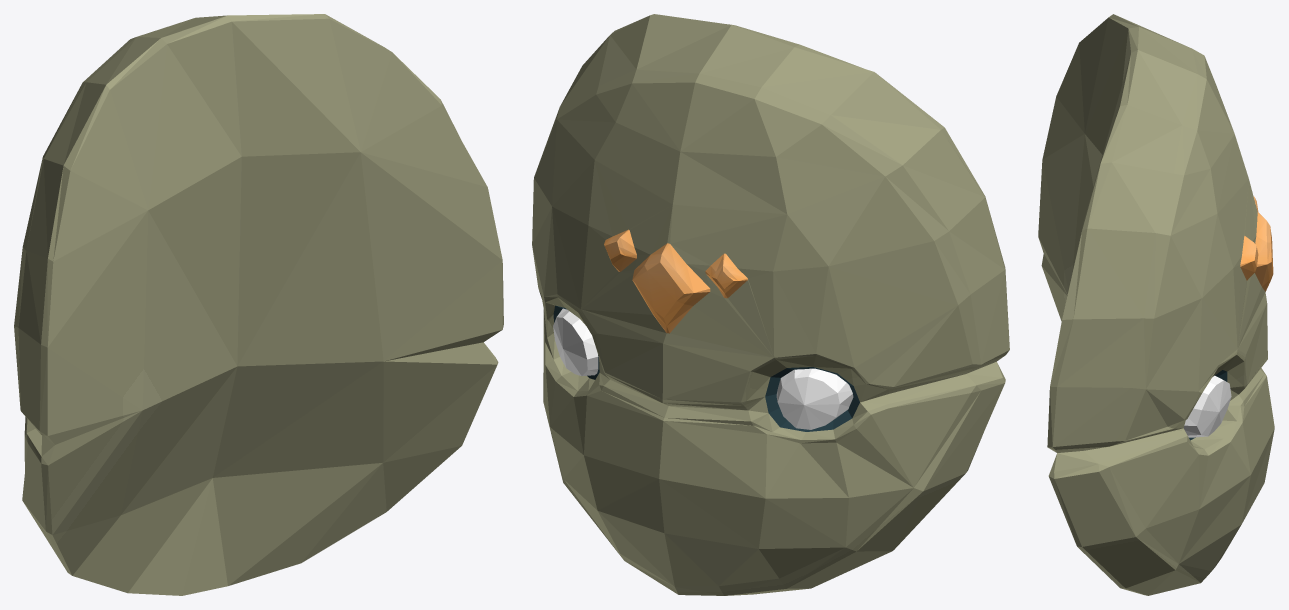
Rendered from CharSkyKid_Mask_AP04Child.glb.
The picture shows the model from 3 angles, left to right: view 1: azimuth 30°, elevation 25°; view 2: azimuth 150°, elevation 25°; view 3: azimuth 270°, elevation 25°; orthographic projection. The views are drawn at different scales.
Visible parts, largest first — view 1: CharSkyKid_Mask_AP04Child; view 2: CharSkyKid_Mask_AP04Child; view 3: CharSkyKid_Mask_AP04Child.
Boxes of the visible parts, x1=… form: CharSkyKid_Mask_AP04Child: x1=14, y1=14, x2=503, y2=595; CharSkyKid_Mask_AP04Child: x1=532, y1=14, x2=1009, y2=595; CharSkyKid_Mask_AP04Child: x1=1038, y1=14, x2=1274, y2=595.
Size of the model in its own units: 2.13 by 2.53 by 1.03.
Materials: 1 (1 with a texture image).
